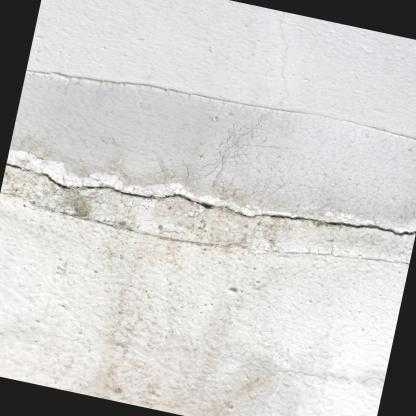crack: (6, 162, 415, 236)
